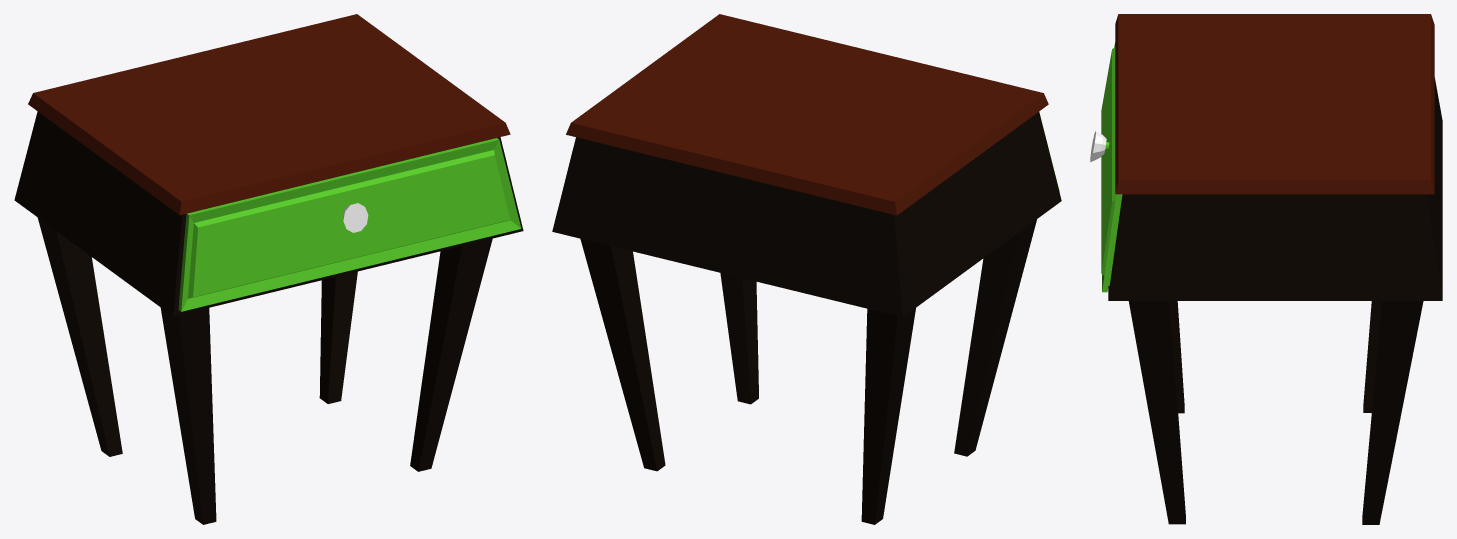
Rendered from House_MasterBedRoom_NightStand.FBX.
3 renders of one model, left to right at view 1: azimuth 30°, elevation 25°; view 2: azimuth 150°, elevation 25°; view 3: azimuth 270°, elevation 25°, orthographic. The views are drawn at different scales.
Parts seen in each view (by area): view 1: House_MasterBedRoom_NightStand_body, House_MasterBedRoom_NightStand_drawer, House_MasterBedRoom_NightStand_leg3, House_MasterBedRoom_NightStand_leg4, House_MasterBedRoom_NightStand_leg1, House_MasterBedRoom_NightStand_leg2; view 2: House_MasterBedRoom_NightStand_body, House_MasterBedRoom_NightStand_leg2, House_MasterBedRoom_NightStand_leg1, House_MasterBedRoom_NightStand_leg4, House_MasterBedRoom_NightStand_leg3; view 3: House_MasterBedRoom_NightStand_body, House_MasterBedRoom_NightStand_leg2, House_MasterBedRoom_NightStand_leg3, House_MasterBedRoom_NightStand_drawer, House_MasterBedRoom_NightStand_leg1, House_MasterBedRoom_NightStand_leg4.
Boxes of the visible parts, <box> form: House_MasterBedRoom_NightStand_body: <box>14,14,523,316</box>; House_MasterBedRoom_NightStand_drawer: <box>178,138,521,311</box>; House_MasterBedRoom_NightStand_leg3: <box>410,238,492,471</box>; House_MasterBedRoom_NightStand_leg4: <box>160,308,216,524</box>; House_MasterBedRoom_NightStand_leg1: <box>37,217,122,456</box>; House_MasterBedRoom_NightStand_leg2: <box>319,271,357,403</box>; House_MasterBedRoom_NightStand_body: <box>552,14,1061,317</box>; House_MasterBedRoom_NightStand_leg2: <box>580,238,665,471</box>; House_MasterBedRoom_NightStand_leg1: <box>861,308,915,524</box>; House_MasterBedRoom_NightStand_leg4: <box>954,219,1036,456</box>; House_MasterBedRoom_NightStand_leg3: <box>720,273,758,404</box>; House_MasterBedRoom_NightStand_body: <box>1108,14,1442,300</box>; House_MasterBedRoom_NightStand_leg2: <box>1362,301,1423,524</box>; House_MasterBedRoom_NightStand_leg3: <box>1128,301,1185,524</box>; House_MasterBedRoom_NightStand_drawer: <box>1090,42,1122,292</box>; House_MasterBedRoom_NightStand_leg1: <box>1363,301,1381,412</box>; House_MasterBedRoom_NightStand_leg4: <box>1170,301,1184,413</box>.
Size of the model in its own units: 99.19 by 95.01 by 82.08.
